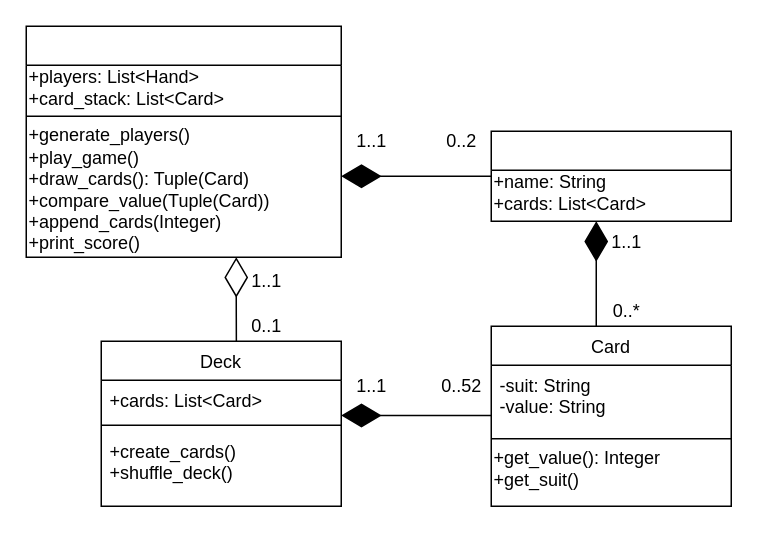
Image size: 758x537. Some labels were removed from this diagram. The box of each missing label's shape, as (x1, y1, x2, y2) in pixels:
Hand: (490, 130, 731, 221)
War: (25, 25, 341, 257)
